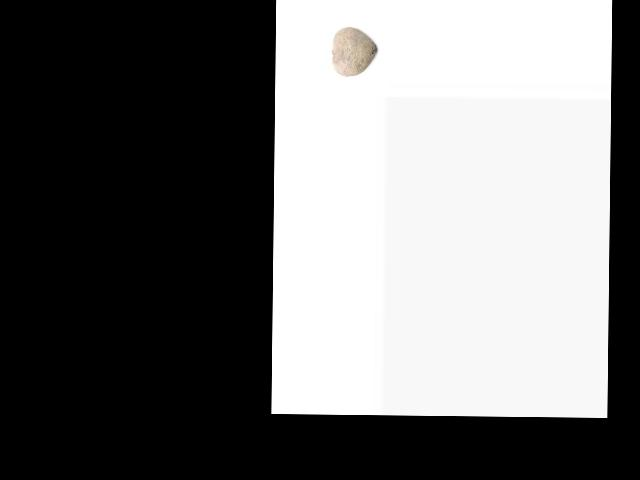beet: (332, 26, 377, 77)
